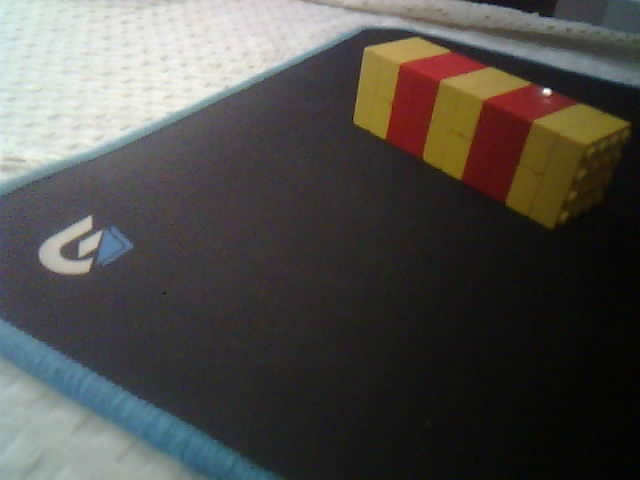lego: (351, 35, 632, 232)
